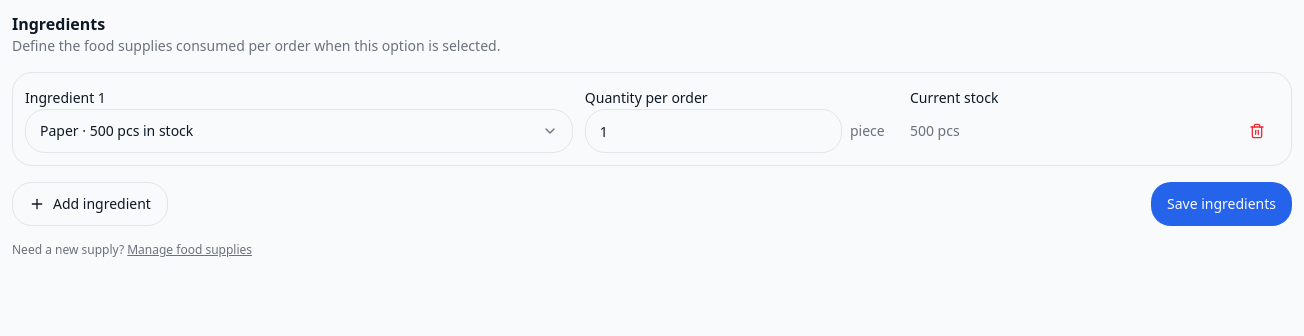
Test case: OrderOptionIngredientsForm › rejects zero quantity before submit
Expected: the button named "Ingredient 1" is shown, x1=25 y1=109 x2=573 y2=153
Replace the text in the number field labelled "Quantity per order" with "0" at (713, 131), box x1=585 y1=109 x2=842 y2=153
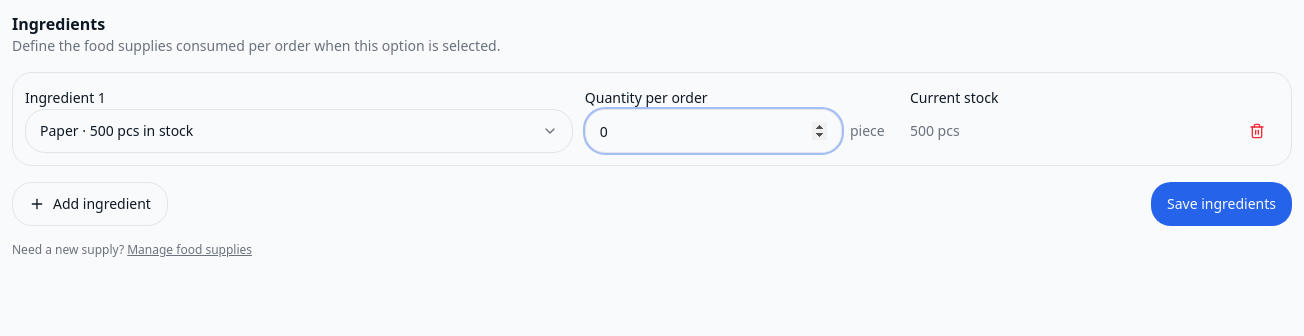
Click the button "Save ingredients" at (1222, 204), box x1=1151 y1=182 x2=1292 y2=226
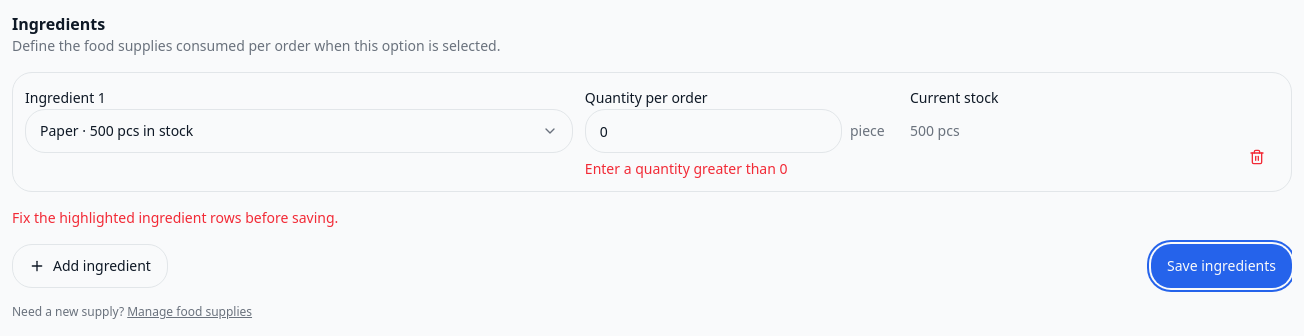
Expected: the text "Enter a quantity greater than 0" is shown, x1=585 y1=159 x2=788 y2=178
